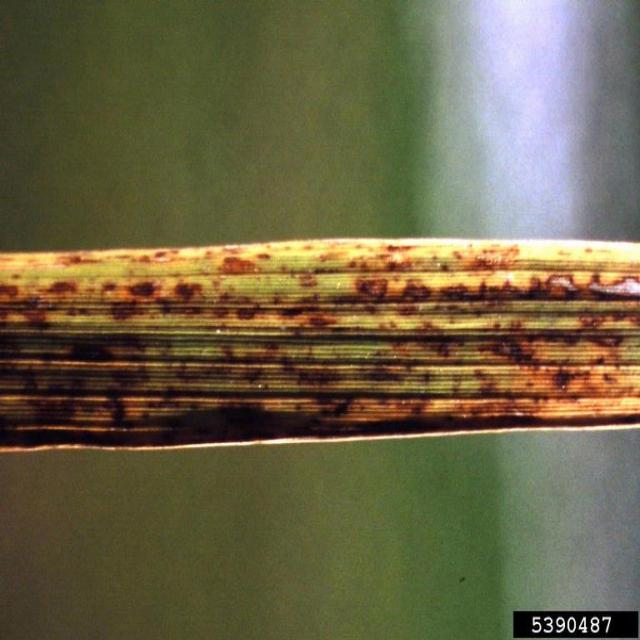Leaf blast: (5, 248, 640, 437)
